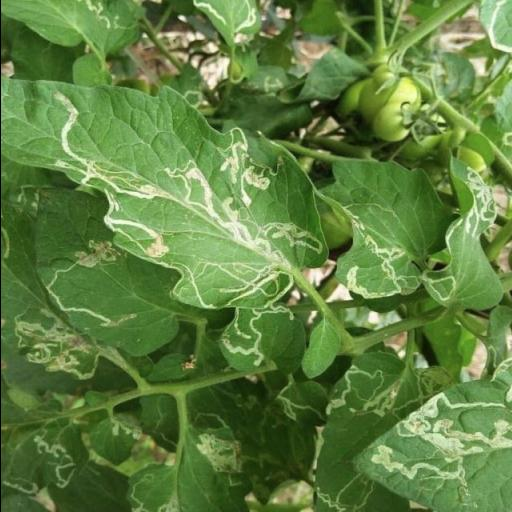Leaf Miner: (0, 80, 330, 312), (36, 188, 178, 358), (350, 377, 512, 512), (330, 156, 450, 300), (418, 154, 506, 310), (216, 300, 306, 377)
